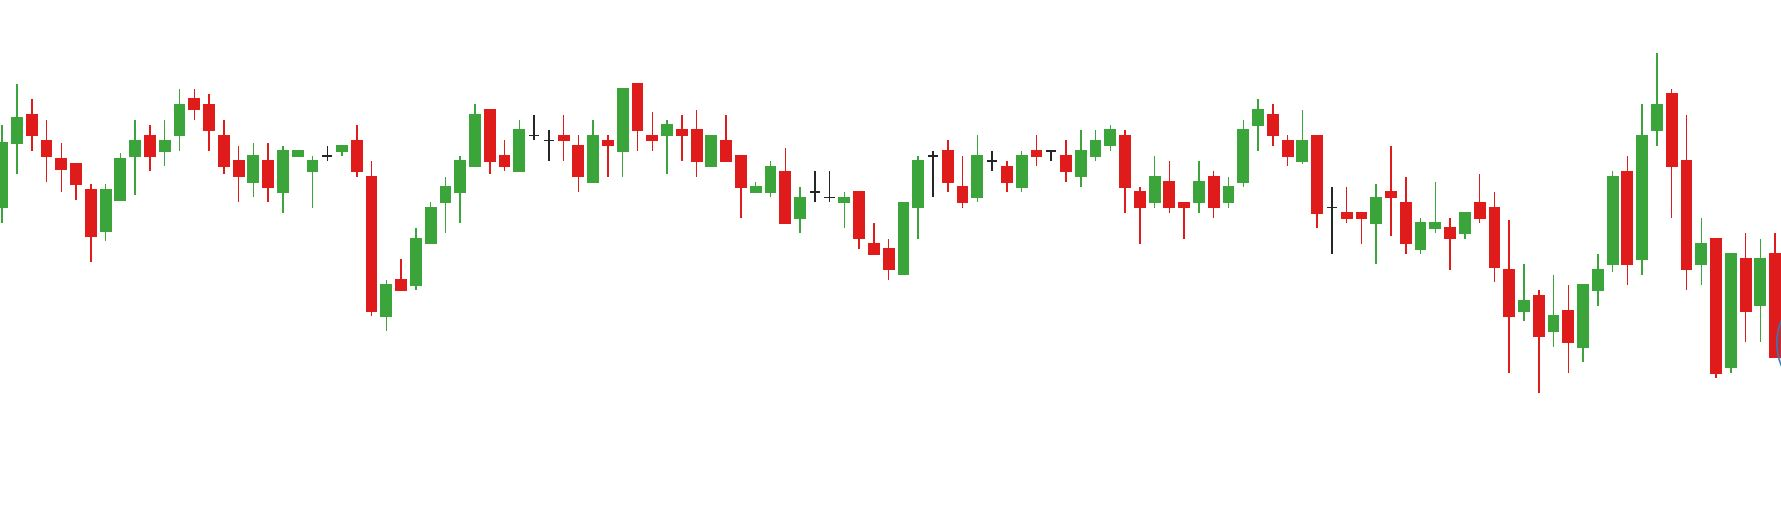buy: (83, 154, 425, 331)
sell: (1385, 54, 1677, 243), (1101, 102, 1280, 190)
